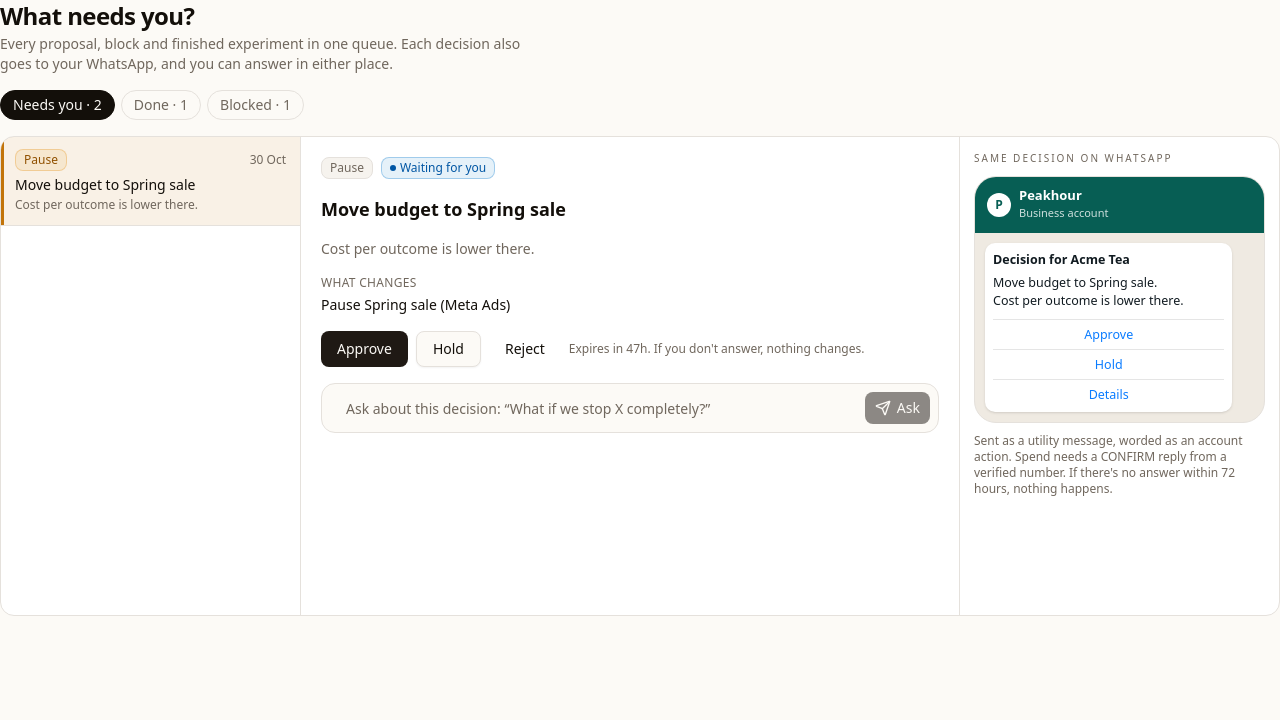
Test: answering › ★anything that touches a platform asks first, whatever its kind
Click the button "Approve": (364, 349) left=321, top=331, right=408, bottom=367
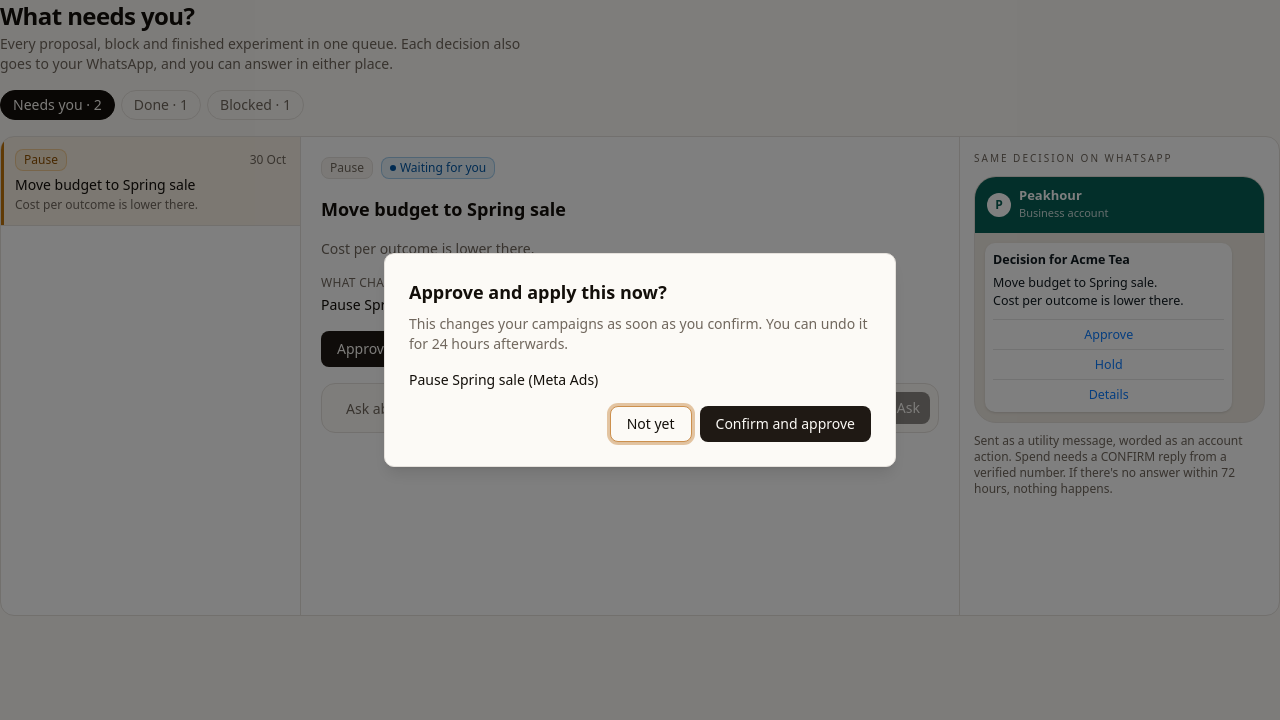
Check: the dialog shows "Pause Spring sale (Meta Ads)", box left=409, top=370, right=598, bottom=389
